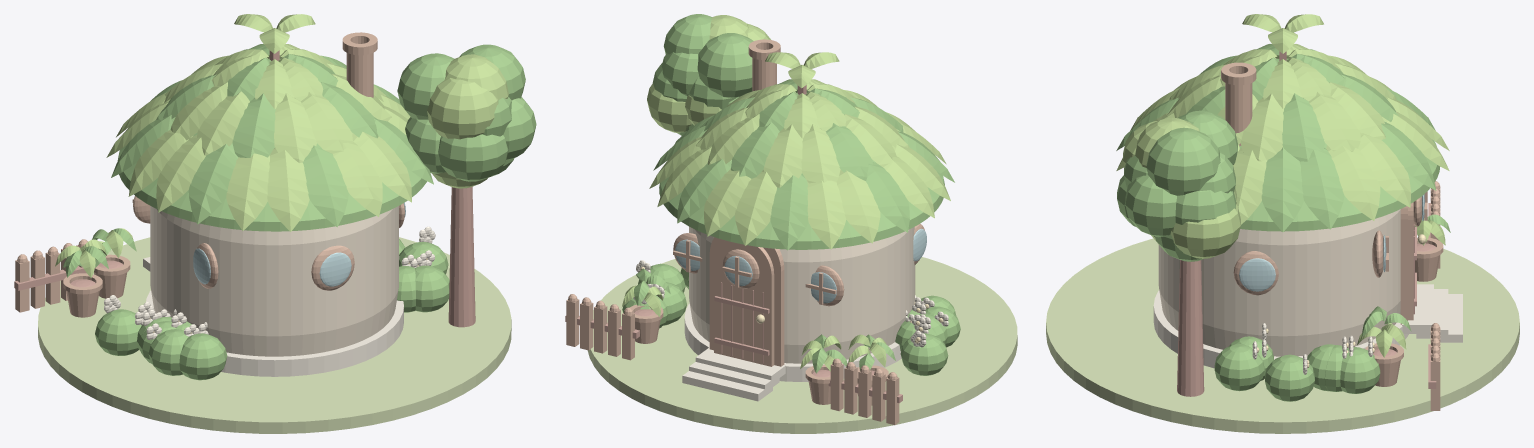
File: engine_house.glb
3 renders of one model, left to right at view 1: azimuth 30°, elevation 25°; view 2: azimuth 150°, elevation 25°; view 3: azimuth 270°, elevation 25°, orthographic. The views are drawn at different scales.
Visible parts, largest first — view 1: Static house 7|NORMAL,POSITION, Static house 8|NORMAL,POSITION, Static house 9|NORMAL,POSITION, Static house 0|NORMAL,POSITION, Static house 6|NORMAL,POSITION, Static house 4|NORMAL,POSITION, Static house 11|NORMAL,POSITION, Static house 5|NORMAL,POSITION; view 2: Static house 8|NORMAL,POSITION, Static house 7|NORMAL,POSITION, Static house 9|NORMAL,POSITION, Static house 6|NORMAL,POSITION, Static house 0|NORMAL,POSITION, Static house 4|NORMAL,POSITION, Static house 11|NORMAL,POSITION, Static house 5|NORMAL,POSITION; view 3: Static house 9|NORMAL,POSITION, Static house 7|NORMAL,POSITION, Static house 8|NORMAL,POSITION, Static house 0|NORMAL,POSITION, Static house 6|NORMAL,POSITION, Static house 4|NORMAL,POSITION, Static house 11|NORMAL,POSITION, Static house 5|NORMAL,POSITION.
Boxes of the visible parts, left/top/right/bottom form: Static house 7|NORMAL,POSITION: left=63, top=44, right=536, bottom=380; Static house 8|NORMAL,POSITION: left=55, top=14, right=508, bottom=277; Static house 9|NORMAL,POSITION: left=38, top=237, right=511, bottom=433; Static house 0|NORMAL,POSITION: left=150, top=206, right=398, bottom=356; Static house 6|NORMAL,POSITION: left=15, top=32, right=404, bottom=317; Static house 4|NORMAL,POSITION: left=104, top=226, right=435, bottom=376; Static house 11|NORMAL,POSITION: left=14, top=50, right=475, bottom=327; Static house 5|NORMAL,POSITION: left=193, top=202, right=405, bottom=286; Static house 8|NORMAL,POSITION: left=622, top=15, right=950, bottom=371; Static house 7|NORMAL,POSITION: left=622, top=14, right=960, bottom=375; Static house 9|NORMAL,POSITION: left=587, top=257, right=1017, bottom=433; Static house 6|NORMAL,POSITION: left=566, top=39, right=924, bottom=424; Static house 0|NORMAL,POSITION: left=689, top=226, right=915, bottom=363; Static house 4|NORMAL,POSITION: left=633, top=260, right=948, bottom=401; Static house 11|NORMAL,POSITION: left=565, top=85, right=902, bottom=403; Static house 5|NORMAL,POSITION: left=675, top=228, right=926, bottom=303; Static house 9|NORMAL,POSITION: left=1046, top=238, right=1519, bottom=433; Static house 7|NORMAL,POSITION: left=1116, top=44, right=1450, bottom=401; Static house 8|NORMAL,POSITION: left=1116, top=14, right=1449, bottom=357; Static house 0|NORMAL,POSITION: left=1158, top=209, right=1400, bottom=356; Static house 6|NORMAL,POSITION: left=1158, top=62, right=1443, bottom=410; Static house 4|NORMAL,POSITION: left=1153, top=284, right=1462, bottom=374; Static house 11|NORMAL,POSITION: left=1177, top=51, right=1436, bottom=396; Static house 5|NORMAL,POSITION: left=1239, top=194, right=1424, bottom=291.
Size of the model in its own units: 5.91 by 4.31 by 5.9.
